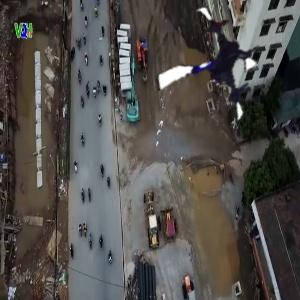drone: (145, 7, 275, 137)
